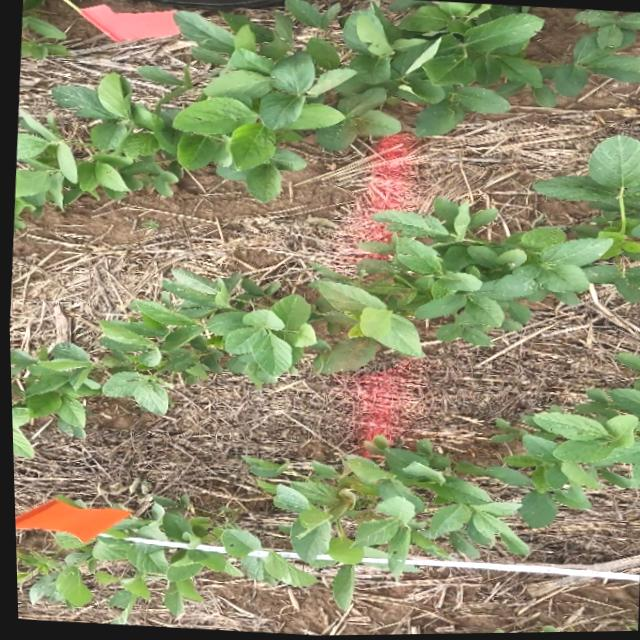soy_plant: (8, 137, 640, 432), (21, 377, 640, 624), (12, 0, 640, 228), (20, 0, 63, 58)
